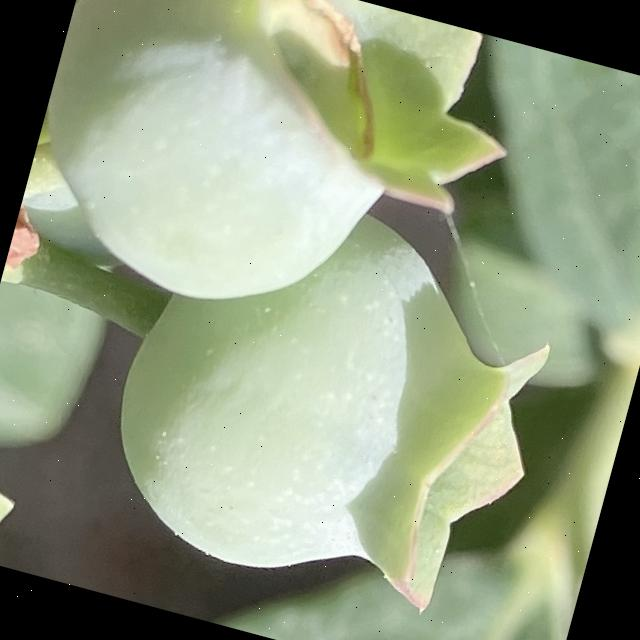Blueberries: (71, 167, 594, 640), (6, 0, 541, 376)
